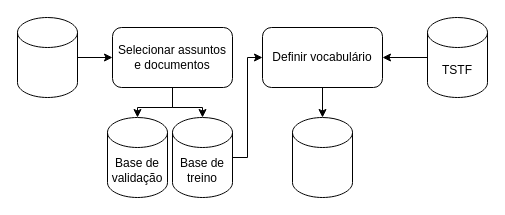
This 505x215 diagram has some shape labels left out. Each missing label, with the box of its shape:
Corpus tratado: (16, 16, 78, 98)
Vocabulá- rio: (292, 116, 352, 198)
